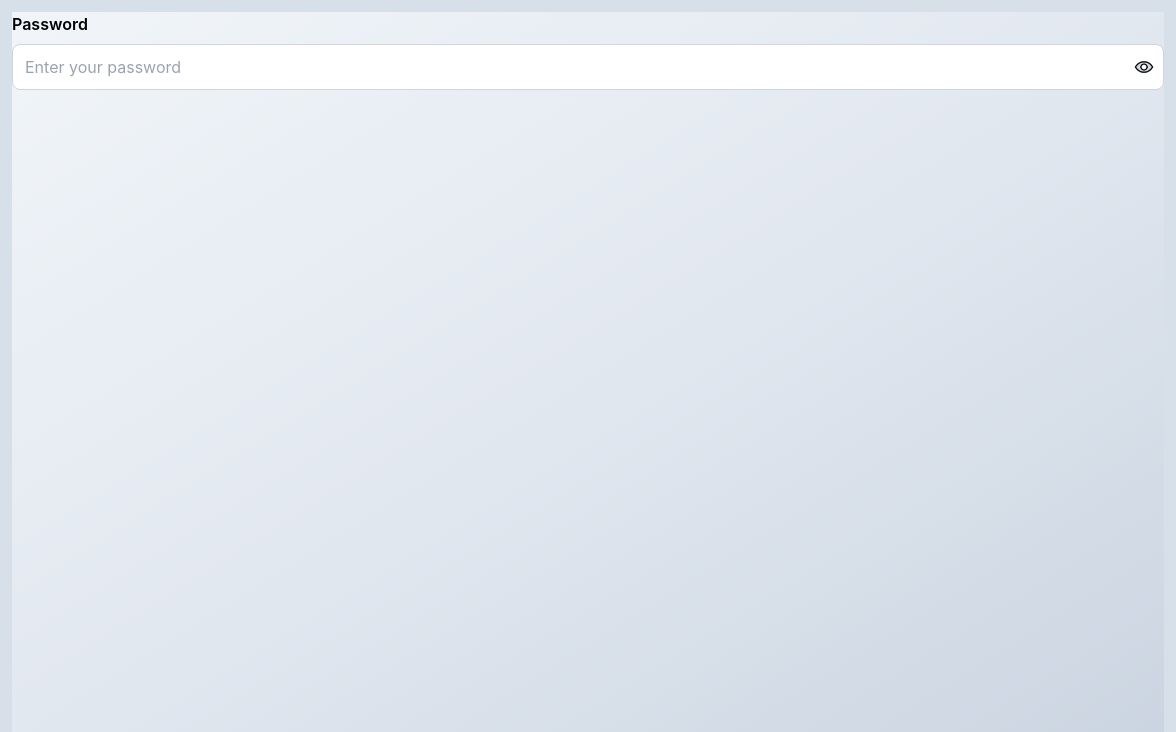
Test: PasswordInput Component › hides password when eye button is clicked again
The width and height of the screenshot is (1176, 732).
Click the button named "Show password".
click(1144, 67)  # box [1134,57,1154,77]
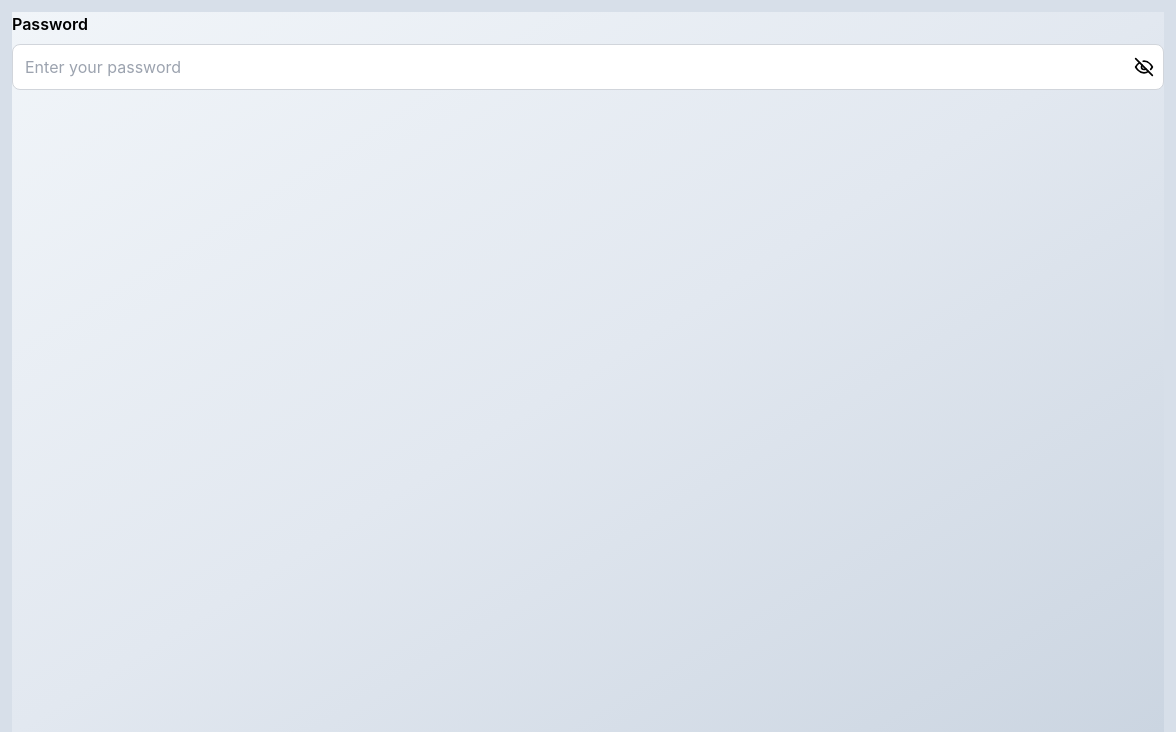
Click the button named "Hide password".
click(1144, 67)  # box [1134,57,1154,77]
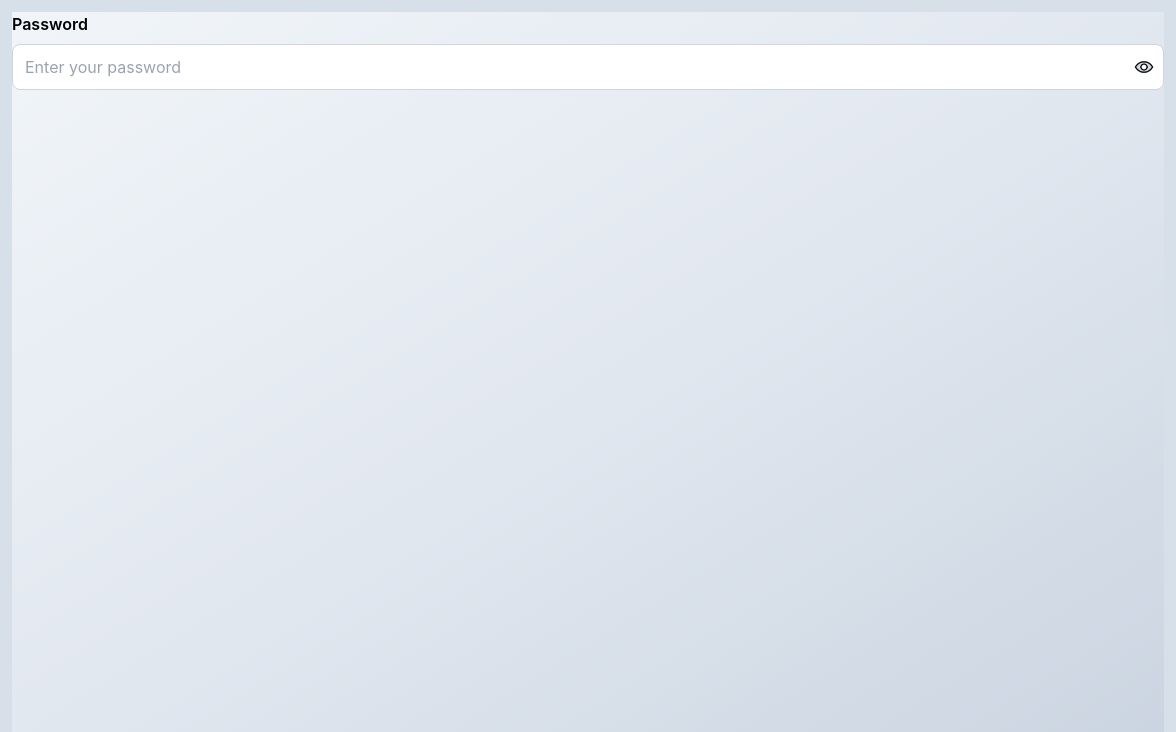
Now the picture with alt text "Show Password" is shown, box [1134,57,1154,77]
